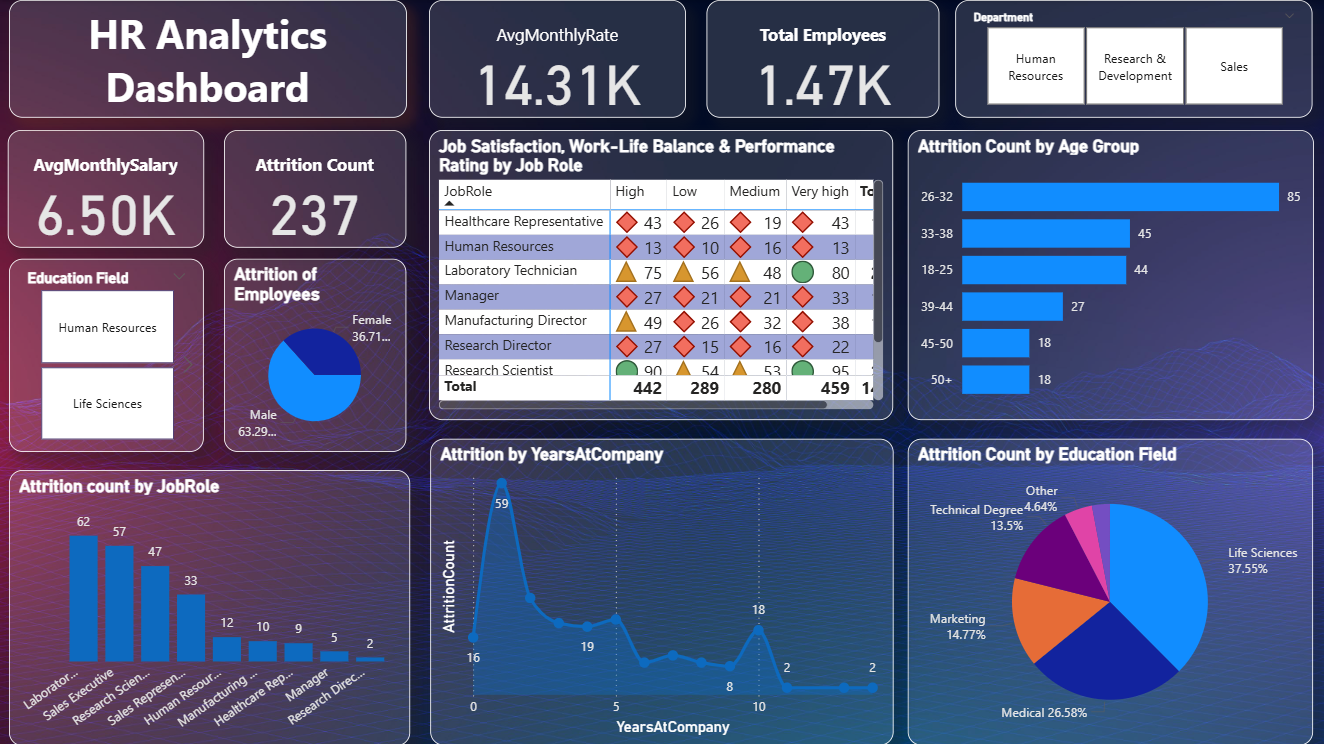

What the dashboard file says about the page in this screenshot:
{"tool":"powerbi","page":{"name":"Page 1","canvas":[1280,720],"ordinal":0},"visuals":[{"type":"cardVisual","fields":{"Data":["HR-Employee-Attrition.AvgMonthlyRate"]},"box":[415,0,248.3,113.3],"z":0},{"type":"cardVisual","fields":{"Data":["HR-Employee-Attrition.AvgMonthlySalary"]},"box":[8.2,124.9,189.4,113.9],"z":1000},{"type":"cardVisual","fields":{"Data":["CountNonNull(HR-Employee-Attrition.EmployeeNumber)"]},"box":[683.3,0,225,113.3],"z":2000},{"type":"pieChart","title":"Attrition of Employees","fields":{"Category":["HR-Employee-Attrition.Gender"],"Y":["HR-Employee-Attrition.AttritionCount"]},"box":[216.8,249.7,175.6,186.6],"z":3000},{"type":"lineStackedColumnComboChart","title":"Attrition count by JobRole","fields":{"Category":["HR-Employee-Attrition.JobRole"],"Y":["HR-Employee-Attrition.AttritionCount"]},"box":[9.6,454.2,387,266.2],"z":4000},{"type":"clusteredBarChart","title":"Attrition Count by Age Group","fields":{"Category":["HR-Employee-Attrition.Age Group"],"Y":["HR-Employee-Attrition.AttritionCount"]},"box":[876.7,125,391.7,280],"z":5000},{"type":"pieChart","title":"Attrition Count by Education Field","fields":{"Category":["HR-Employee-Attrition.EducationField"],"Y":["HR-Employee-Attrition.AttritionCount"]},"box":[876.8,424,391.1,296.4],"z":6000},{"type":"slicer","fields":{"Values":["HR-Employee-Attrition.EducationField"]},"box":[10,250,188.3,186.7],"z":7000},{"type":"cardVisual","fields":{"Data":["HR-Employee-Attrition.AttritionCount"]},"box":[216.8,124.9,175.6,113.9],"z":8000},{"type":"slicer","fields":{"Values":["HR-Employee-Attrition.Department"]},"box":[923.3,0,345,113.3],"z":9000},{"type":"pivotTable","title":"Job Satisfaction, Work-Life Balance & Performance Rating by Job Role","fields":{"Rows":["HR-Employee-Attrition.JobRole"],"Values":["Sum(HR-Employee-Attrition.EmployeeCount)"],"Columns":["HR-Employee-Attrition.Jobsatisfaction","HR-Employee-Attrition.WorkLifeBalance","HR-Employee-Attrition.PerformanceRating"]},"box":[415,125,448.3,280],"z":10000},{"type":"lineChart","title":"Attrition by YearsAtCompany","fields":{"Y":["HR-Employee-Attrition.AttritionCount"],"Category":["HR-Employee-Attrition.YearsAtCompany"]},"box":[415.8,424,447.3,296.4],"z":11000},{"type":"shape","title":"HR ","box":[9.7,0,383.6,113.4],"z":12000}]}

Visuals, with their boxes in screenshot pixels (x1, y1, x2, y2), scaled from the page's 1280x720 canvas onto the 1324x744 screenshot:
cardVisual - HR-Employee-Attrition.AvgMonthlyRate: bbox(429, 0, 686, 117)
cardVisual - HR-Employee-Attrition.AvgMonthlySalary: bbox(8, 129, 204, 247)
cardVisual - CountNonNull(HR-Employee-Attrition.EmployeeNumber): bbox(707, 0, 940, 117)
"Attrition of Employees" pieChart: bbox(224, 258, 406, 451)
"Attrition count by JobRole" lineStackedColumnComboChart: bbox(10, 469, 410, 743)
"Attrition Count by Age Group" clusteredBarChart: bbox(907, 129, 1312, 419)
"Attrition Count by Education Field" pieChart: bbox(907, 438, 1311, 743)
slicer - HR-Employee-Attrition.EducationField: bbox(10, 258, 205, 451)
cardVisual - HR-Employee-Attrition.AttritionCount: bbox(224, 129, 406, 247)
slicer - HR-Employee-Attrition.Department: bbox(955, 0, 1312, 117)
"Job Satisfaction, Work-Life Balance & Performance Rating by Job Role" pivotTable: bbox(429, 129, 893, 419)
"Attrition by YearsAtCompany" lineChart: bbox(430, 438, 893, 743)
"HR " shape: bbox(10, 0, 407, 117)
